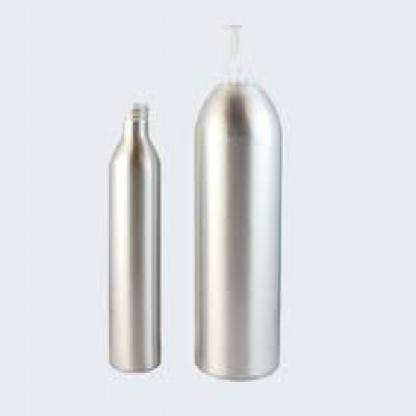METAL: (192, 20, 278, 380), (106, 104, 159, 372)
